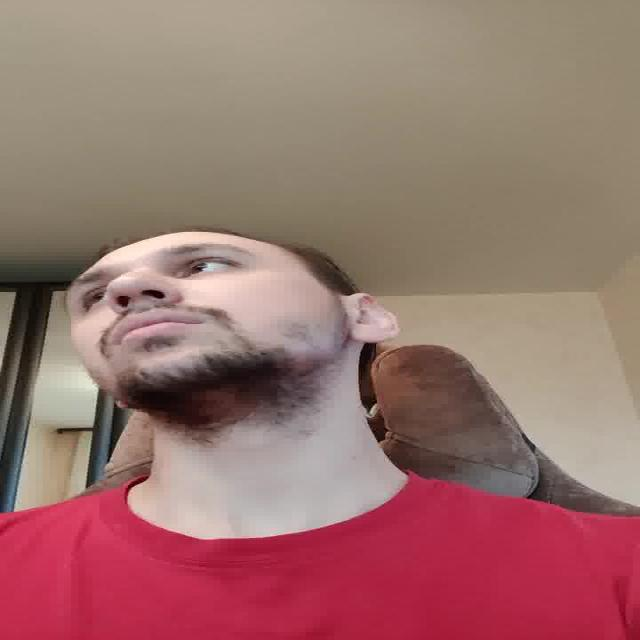earlobe: (348, 293, 402, 344)
